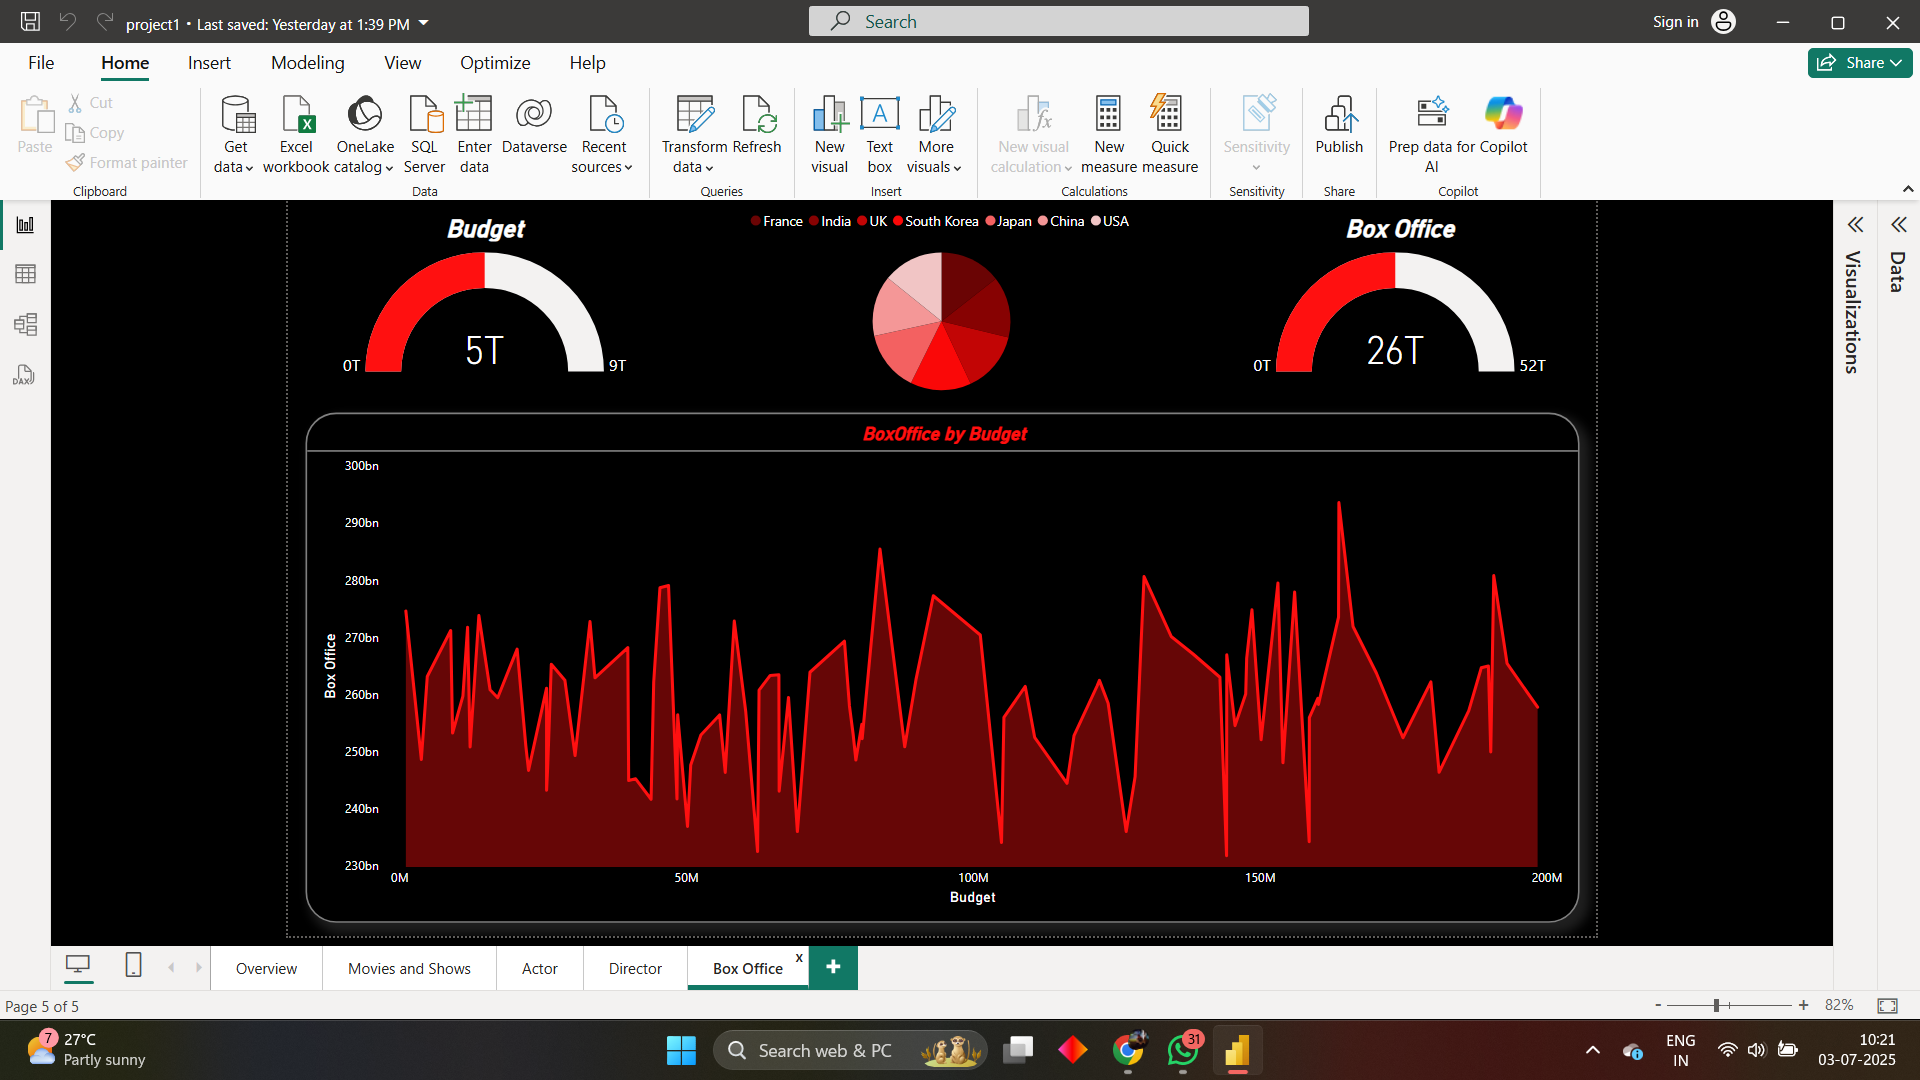

This screenshot's page, from the dashboard's own definition file:
{"tool":"powerbi","page":{"name":"Box Office","canvas":[1280,720],"ordinal":4},"visuals":[{"type":"gauge","title":"Budget","fields":{"Y":["Sum(movie.Budget_USD)"]},"box":[0,13.5,385.2,163.9],"z":0},{"type":"gauge","title":"Box Office","fields":{"Y":["Sum(movie.BoxOffice_USD)"]},"box":[895.1,13.5,385.2,163.9],"z":1000},{"type":"areaChart","title":"BoxOffice by Budget","fields":{"Category":["movie.Budget_USD"],"Y":["Sum(movie.BoxOffice_USD)"]},"box":[17.1,207.9,1246.1,498.9],"z":2000},{"type":"pieChart","fields":{"Category":["movie.Country"],"Y":["Sum(movie.BoxOffice_USD)"]},"box":[338.7,0,601.6,207.9],"z":3000}]}

Visuals, with their boxes on the page's 1280x720 design canvas (x1, y1, x2, y2). These are canvas units, not pixel positions in the 1920x1080 screenshot, which may show the page scaled, cropped or inside an application window:
"Budget" gauge: pyautogui.locateOnScreen(0, 14, 385, 177)
"Box Office" gauge: pyautogui.locateOnScreen(895, 14, 1280, 177)
"BoxOffice by Budget" areaChart: pyautogui.locateOnScreen(17, 208, 1263, 707)
pieChart - movie.Country x Sum(movie.BoxOffice_USD): pyautogui.locateOnScreen(339, 0, 940, 208)
